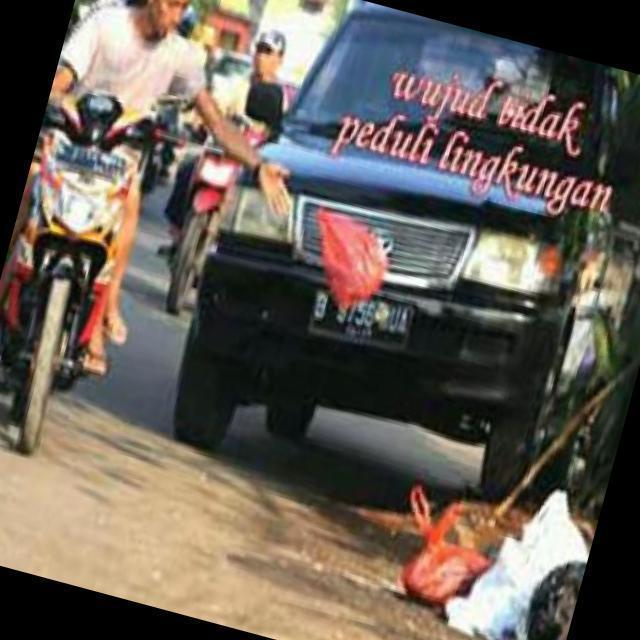Plastic_Bag: (294, 199, 406, 323)
